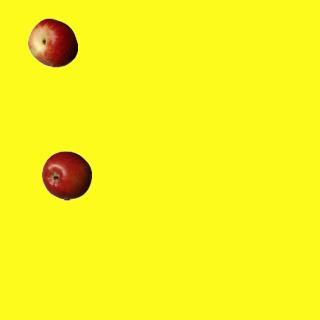Apple Braeburn: (41, 150, 91, 200)
Nectarine: (27, 17, 77, 67)
